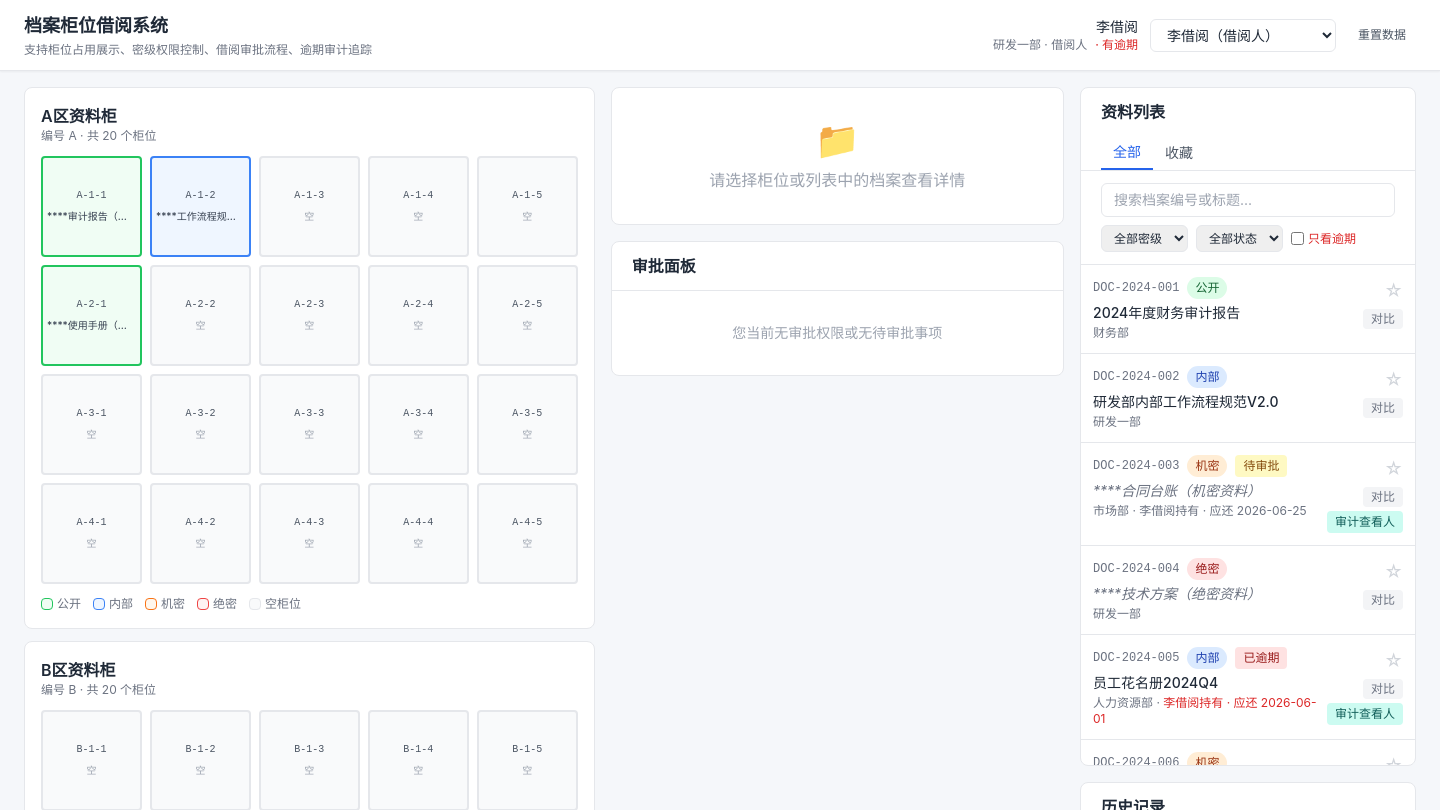
Test case: 档案柜位借阅系统 - 核心业务场景验证 › 场景3：逾期人员再次借涉密资料失败 › 逾期用户（李借阅）申请涉密资料时被拦截
Select "李借阅（借阅人）" in the dropdown with test id "role-select" at (1243, 35), box [1150,18,1336,52]
expect the text "· 有逾期" is shown: met, box [1095,37,1138,52]
Click the element with test id "archive-row-arc-4".
click(1248, 590)  # box [1081,545,1415,634]
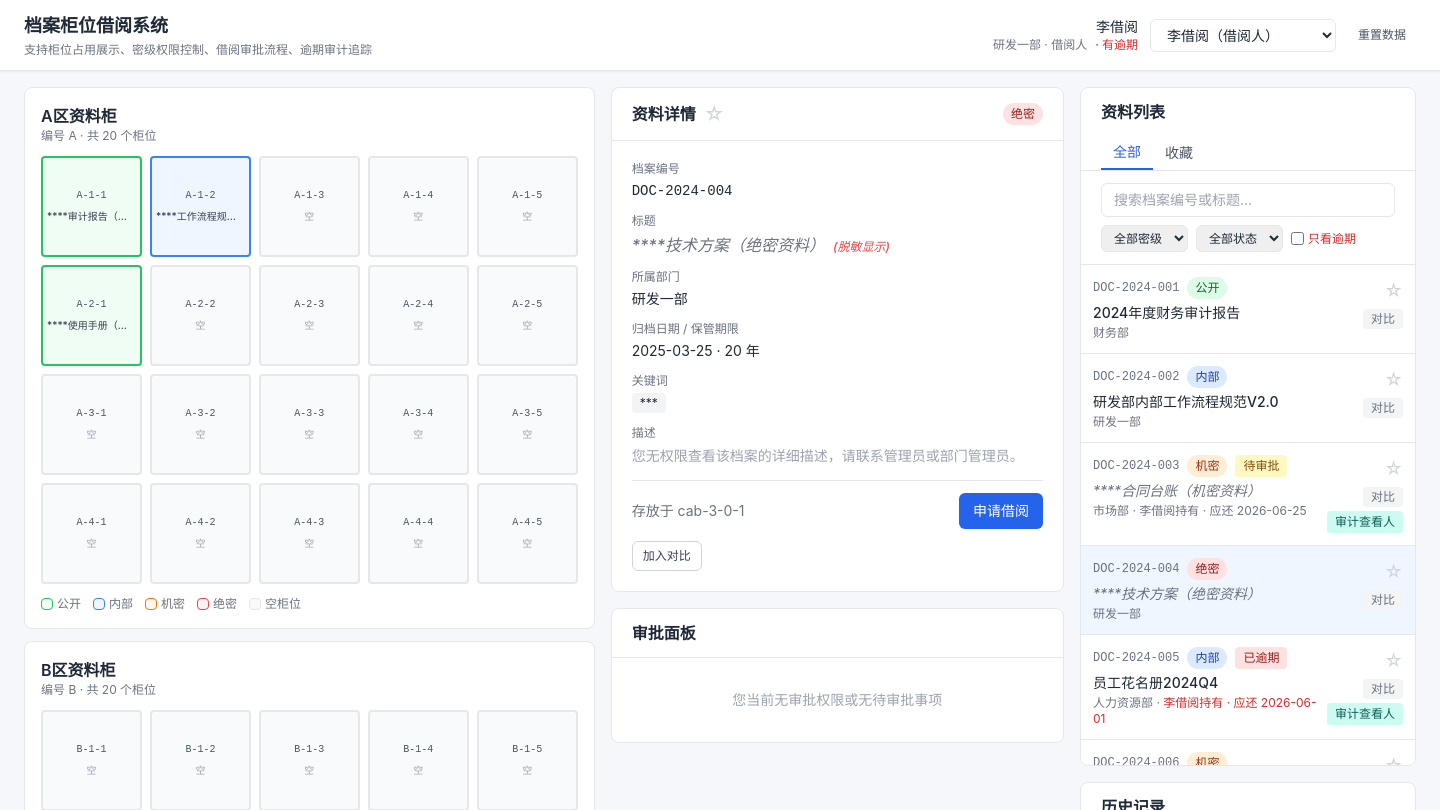
expect the button with test id "btn-borrow" is shown: met
Click the button with test id "btn-borrow".
click(1001, 511)  # box [959,493,1043,529]
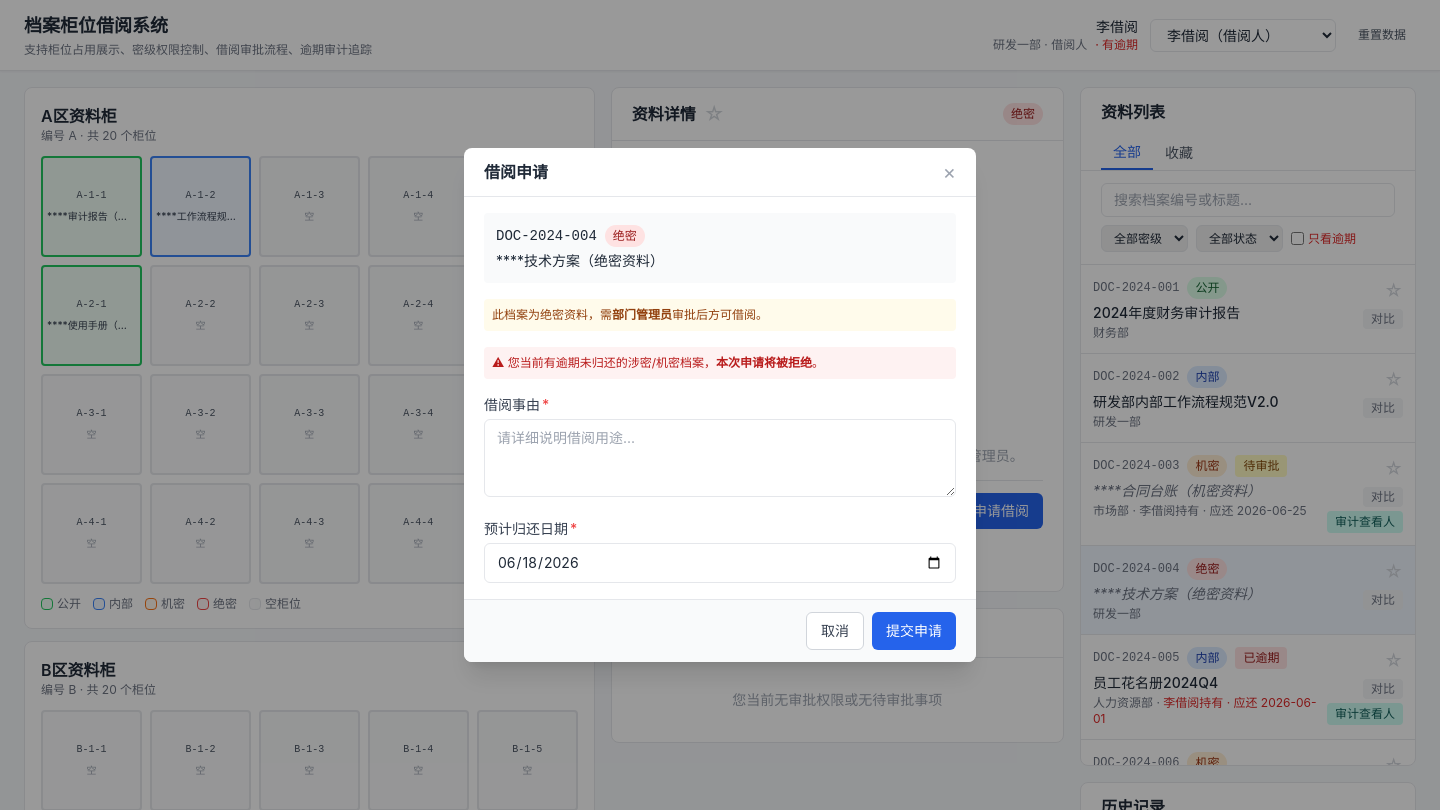
expect the form with test id "borrow-form" is shown: met, box [484,213,956,583]
expect the element with test id "overdue-warning" is shown: met, box [484,347,956,379]
Type "工作需要" into the text box with test id "borrow-reason".
click(720, 458); type("工作需要")  # box [484,419,956,497]
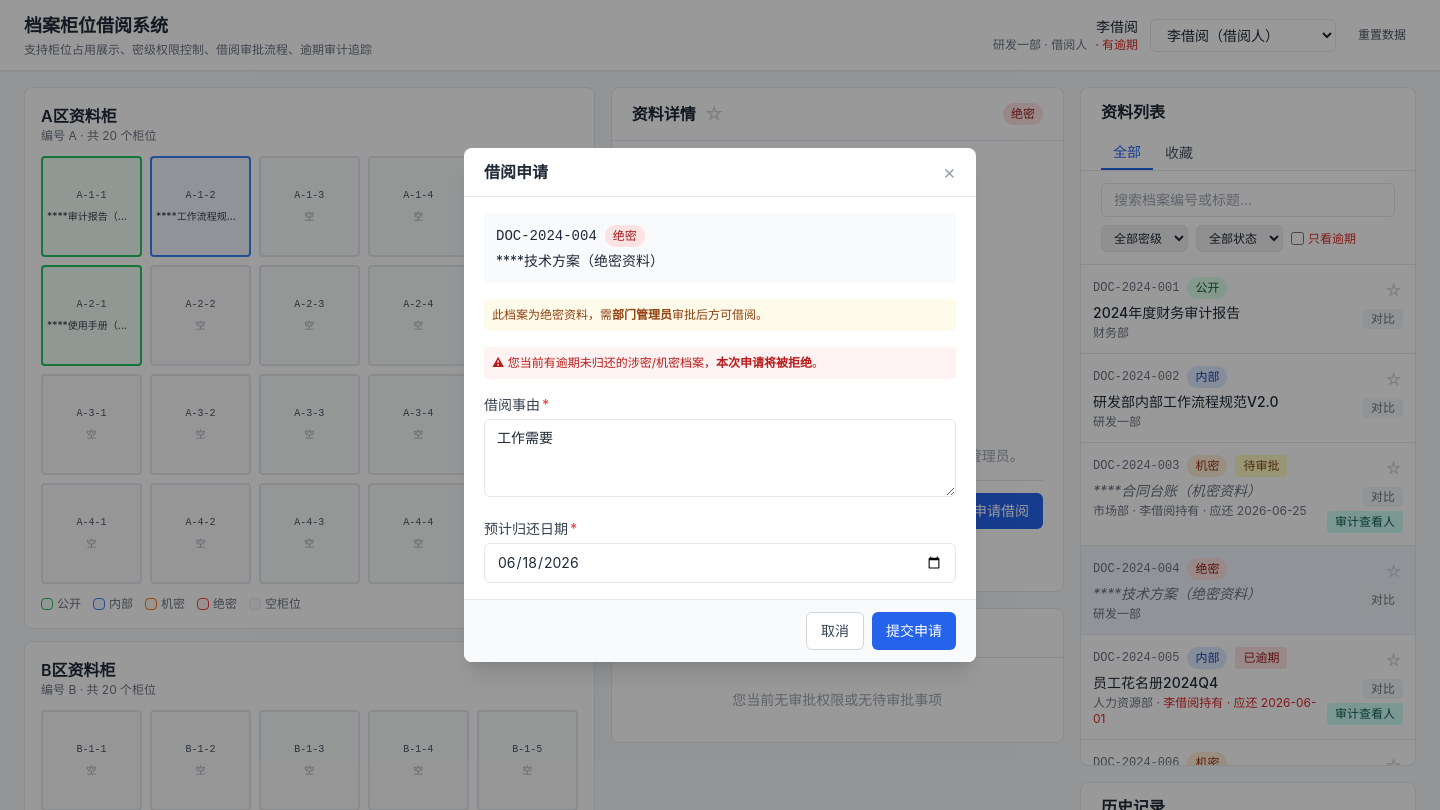
Type "2026-07-10" into the date field with test id "borrow-date".
click(720, 563); type("2026-07-10")  # box [484,543,956,583]
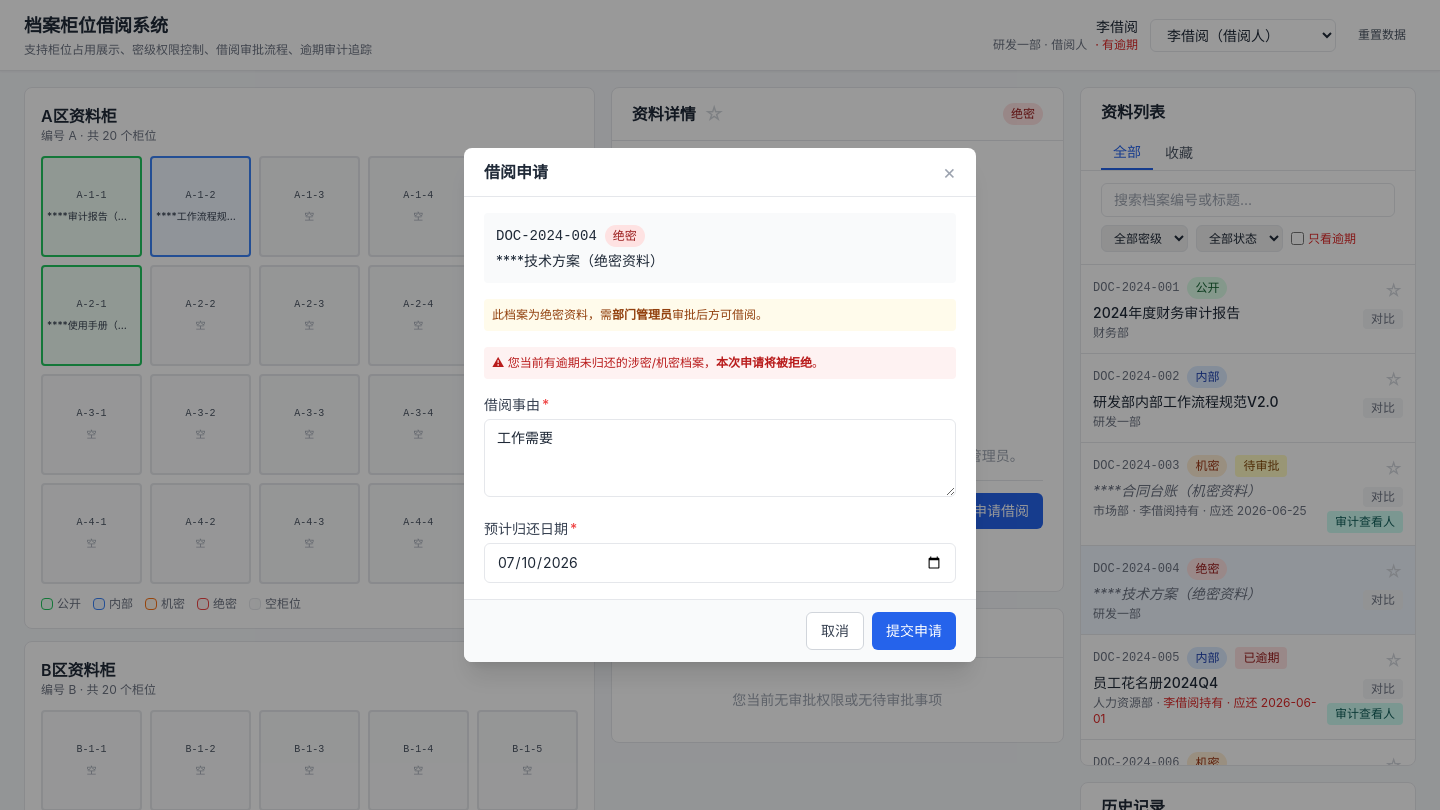
Click the button "提交申请".
click(914, 631)  # box [872,612,956,650]
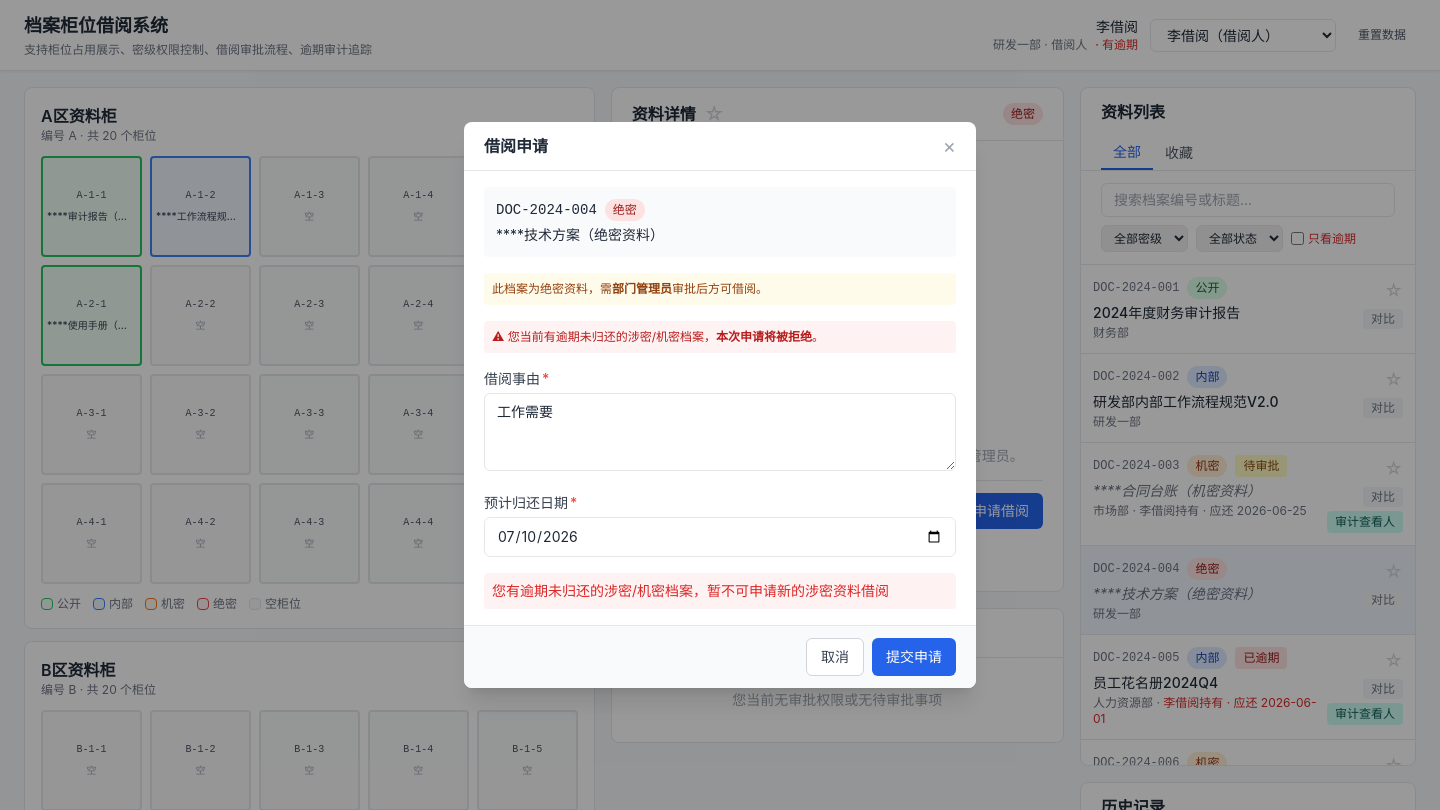
expect the text "您有逾期未归还的涉密/机密档案，暂不可申请新的涉密资料借阅" is shown: met, box [484,573,956,609]
expect the text with test id "borrow-error" shows "逾期未归还": met, box [492,582,889,599]
